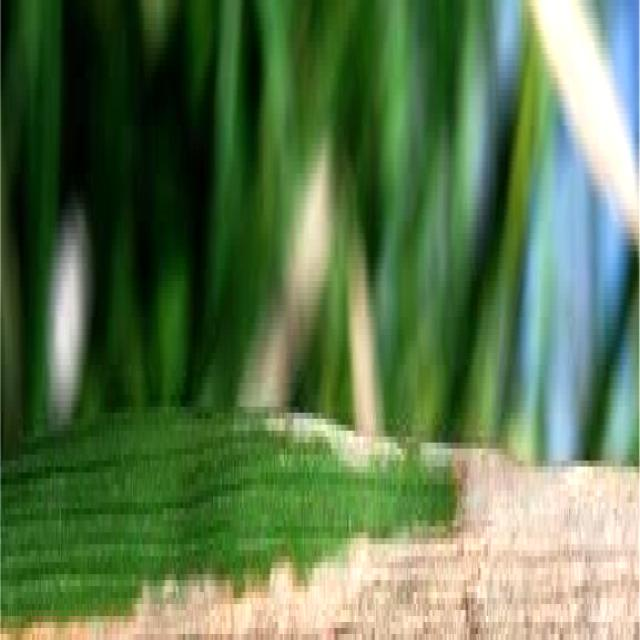BLB: (2, 419, 638, 640)
